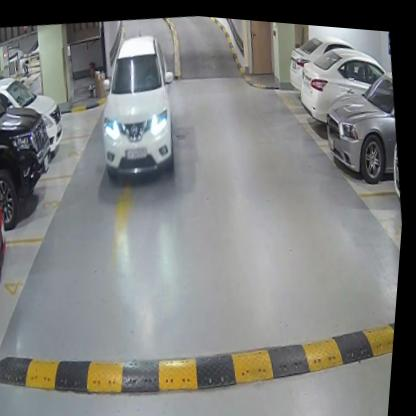np: (126, 140, 152, 160)
